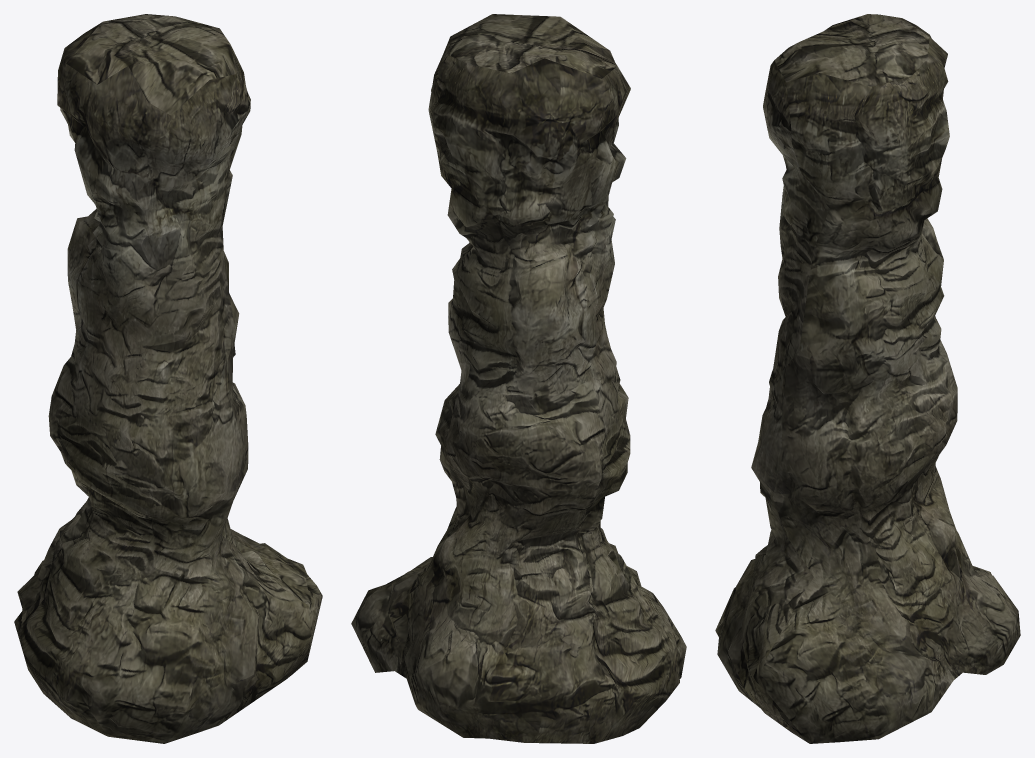
The model's file is MEP_Cliff_02.fbx.
3 renders of one model, left to right at view 1: azimuth 30°, elevation 25°; view 2: azimuth 150°, elevation 25°; view 3: azimuth 270°, elevation 25°, orthographic. The views are drawn at different scales.
Parts seen in each view (by area): view 1: MEP_Desert_Cliff_02_N; view 2: MEP_Desert_Cliff_02_N; view 3: MEP_Desert_Cliff_02_N.
Boxes of the visible parts, box(x1,y1,x2,y2) form: MEP_Desert_Cliff_02_N: box(14, 14, 322, 743); MEP_Desert_Cliff_02_N: box(351, 14, 686, 743); MEP_Desert_Cliff_02_N: box(715, 14, 1020, 743).
Size of what is drawn, in the model's own units: 1082 by 2474 by 1030.
1 material, 1 textured.
